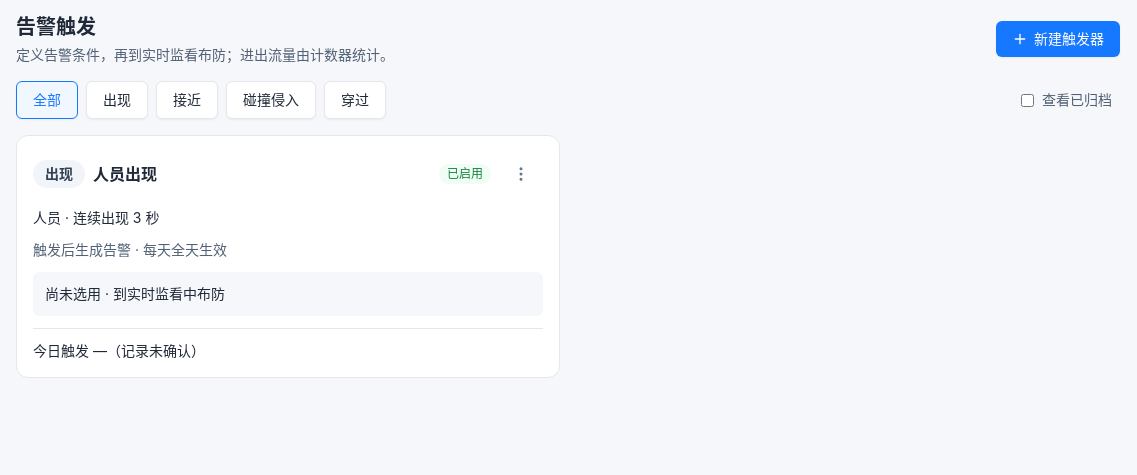
pause and enable are direct versioned actions with stable retries after an uncertain response
The width and height of the screenshot is (1137, 475).
Click the button named "更多操作" at (521, 174), box [499,152,543,196]
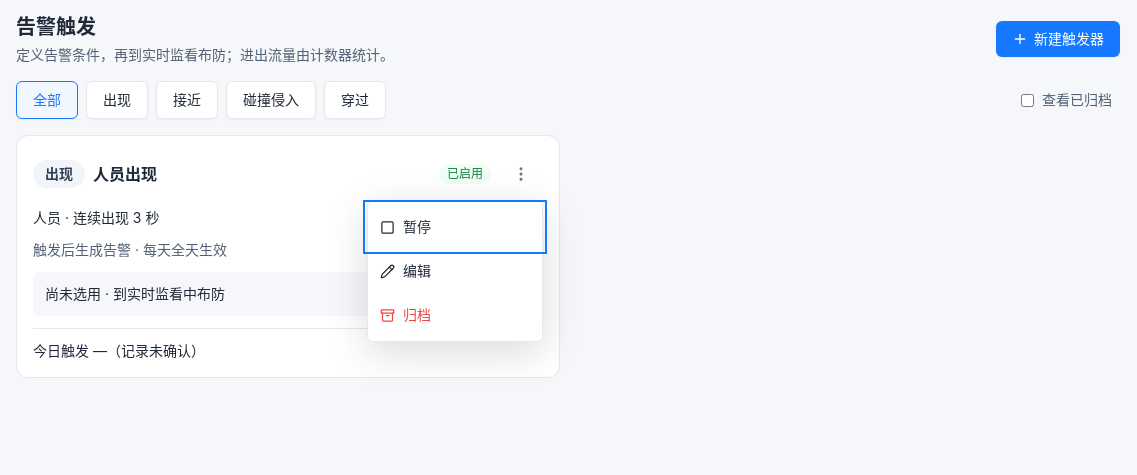
Click the menu item "暂停" at (455, 227), box [368,205,542,249]
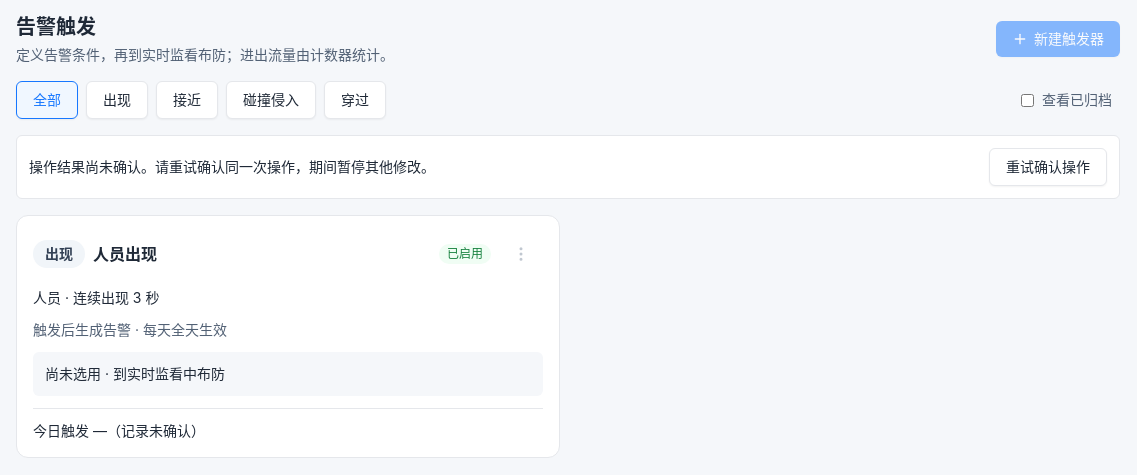
Expected: the message "操作结果尚未确认。请重试确认同一次操作，期间暂停其他修改。 重试确认操作" is shown, [16,135,1120,199]
Expected: the button "新建触发器" is disabled, [996,21,1120,57]
Click the button "重试确认操作" at (1048, 167), box [989,148,1107,186]
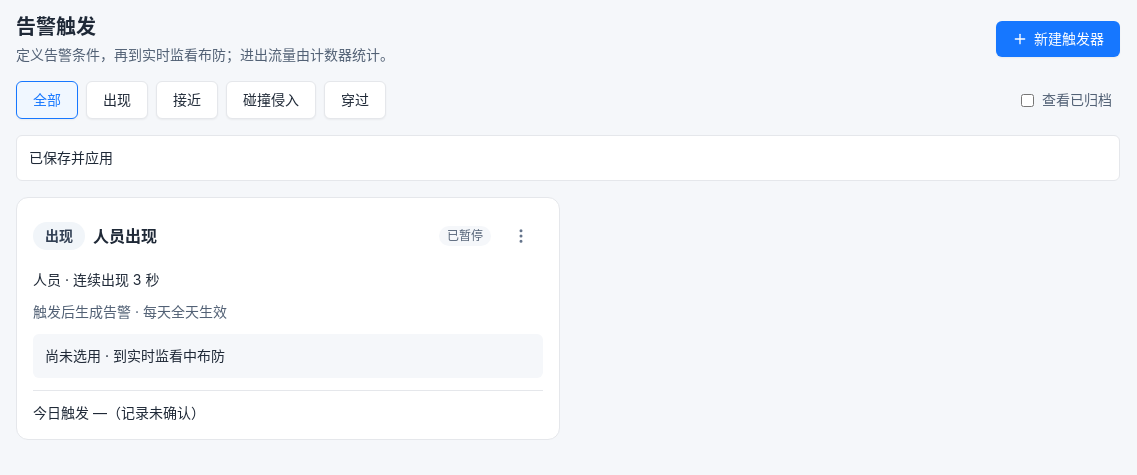
Expected: the button "新建触发器" is enabled, [996,21,1120,57]
Expected: the text "已暂停" is shown, [439,226,491,246]
Click the button named "更多操作" at (521, 236), box [499,214,543,258]
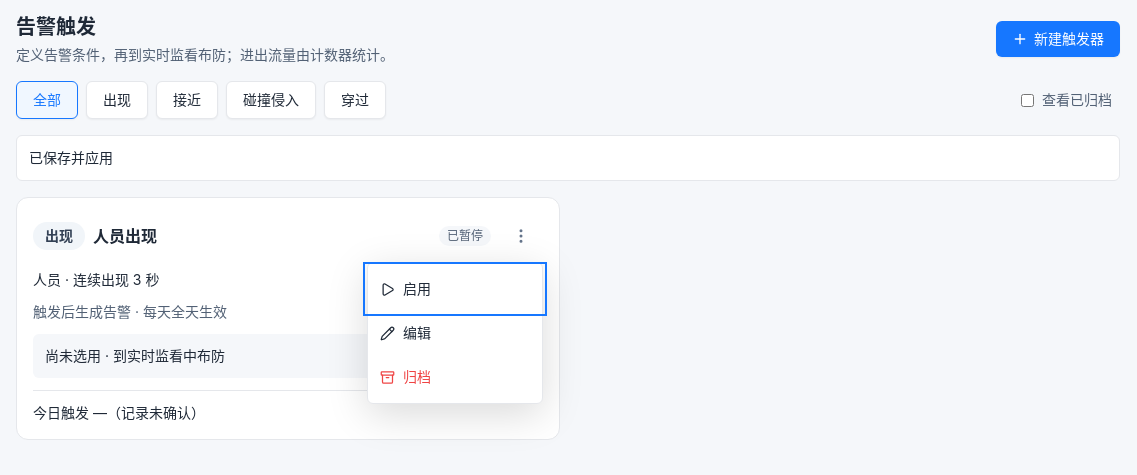
Expected: the menu item "启用" is enabled, [368,267,542,311]
